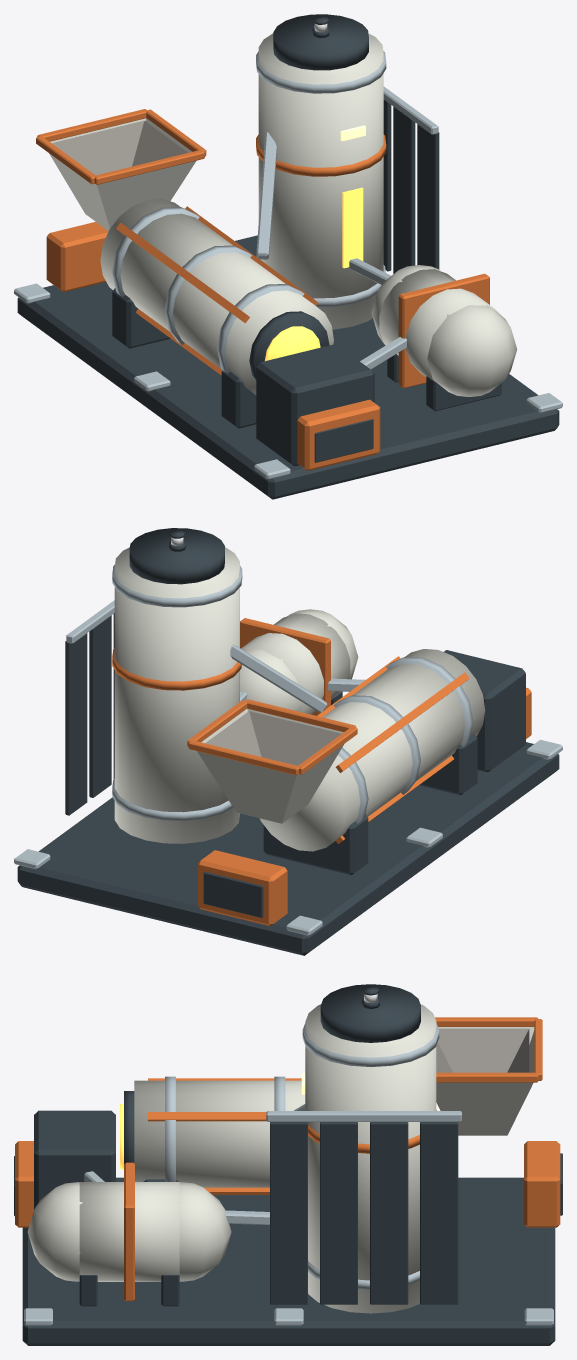
Rendered from processor.glb.
3 renders of one model, top to bottom at view 1: azimuth 30°, elevation 25°; view 2: azimuth 150°, elevation 25°; view 3: azimuth 270°, elevation 25°, orthographic. The views are drawn at different scales.
Visible parts, largest first — view 1: processor_dark, processor_ivory, Kiln, processor_orange, processor_metal, Fill, Heater; view 2: processor_dark, processor_ivory, Kiln, processor_orange, processor_metal, Fill; view 3: processor_dark, processor_ivory, Kiln, processor_orange, processor_metal, Fill.
Boxes of the visible parts, box(x1,y1,x2,y2) form: processor_dark: box(17, 14, 559, 499); processor_ivory: box(49, 33, 517, 396); Kiln: box(100, 199, 333, 394); processor_orange: box(36, 109, 489, 470); processor_metal: box(14, 51, 562, 479); Fill: box(52, 120, 187, 175); Heater: box(265, 187, 363, 360); processor_dark: box(17, 528, 559, 955); processor_ivory: box(114, 547, 358, 843); Kiln: box(259, 649, 485, 851); processor_orange: box(112, 618, 531, 926); processor_metal: box(14, 564, 562, 935); Fill: box(205, 711, 341, 765); processor_dark: box(14, 984, 562, 1345); processor_ivory: box(27, 1004, 534, 1313); Kiln: box(124, 1076, 305, 1194); processor_orange: box(15, 1017, 560, 1301); processor_metal: box(24, 1023, 553, 1325); Fill: box(436, 1028, 529, 1072).
Size of the model in its own units: 3.92 by 3.89 by 6.03.
